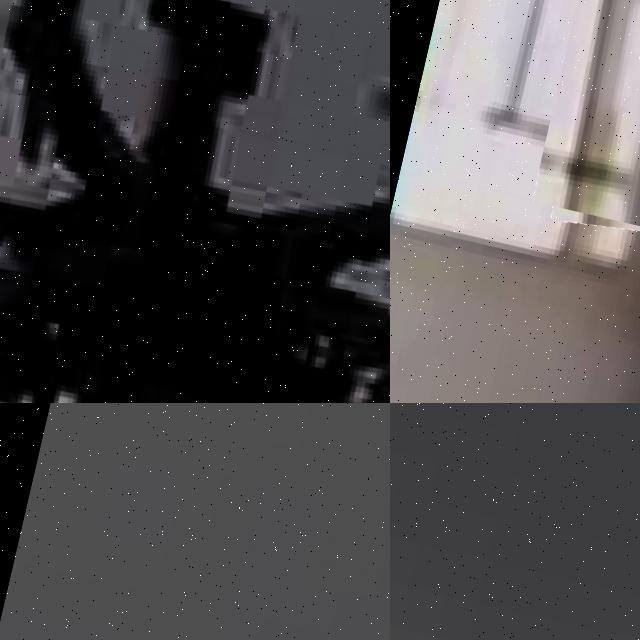0: (0, 0, 390, 403)
drone: (531, 0, 640, 314)
